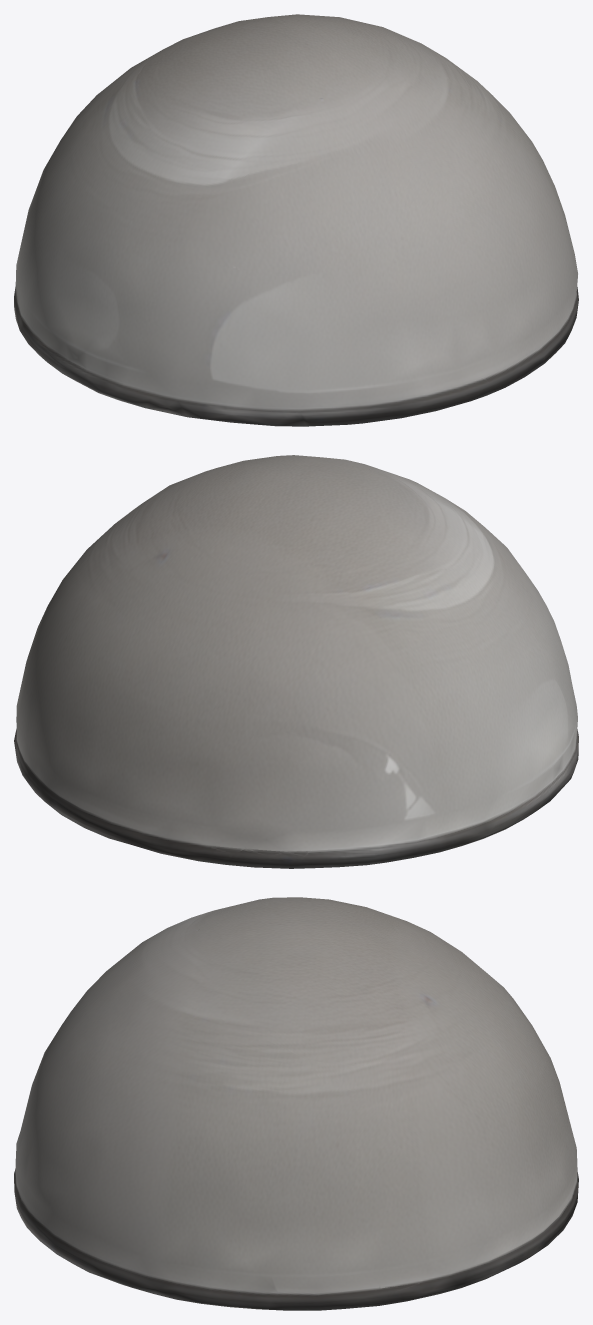
3 renders of one model, top to bottom at view 1: azimuth 30°, elevation 25°; view 2: azimuth 150°, elevation 25°; view 3: azimuth 270°, elevation 25°, orthographic.
Visible parts, largest first — view 1: material_0; view 2: material_0; view 3: material_0.
Boxes of the visible parts, x1,y1,x2,y2 form: material_0: (14,14,578,426); material_0: (14,455,578,868); material_0: (14,897,578,1310).
Bounding box in the file's own units: 99.93 × 52.63 × 100.
1 material, 1 textured.
